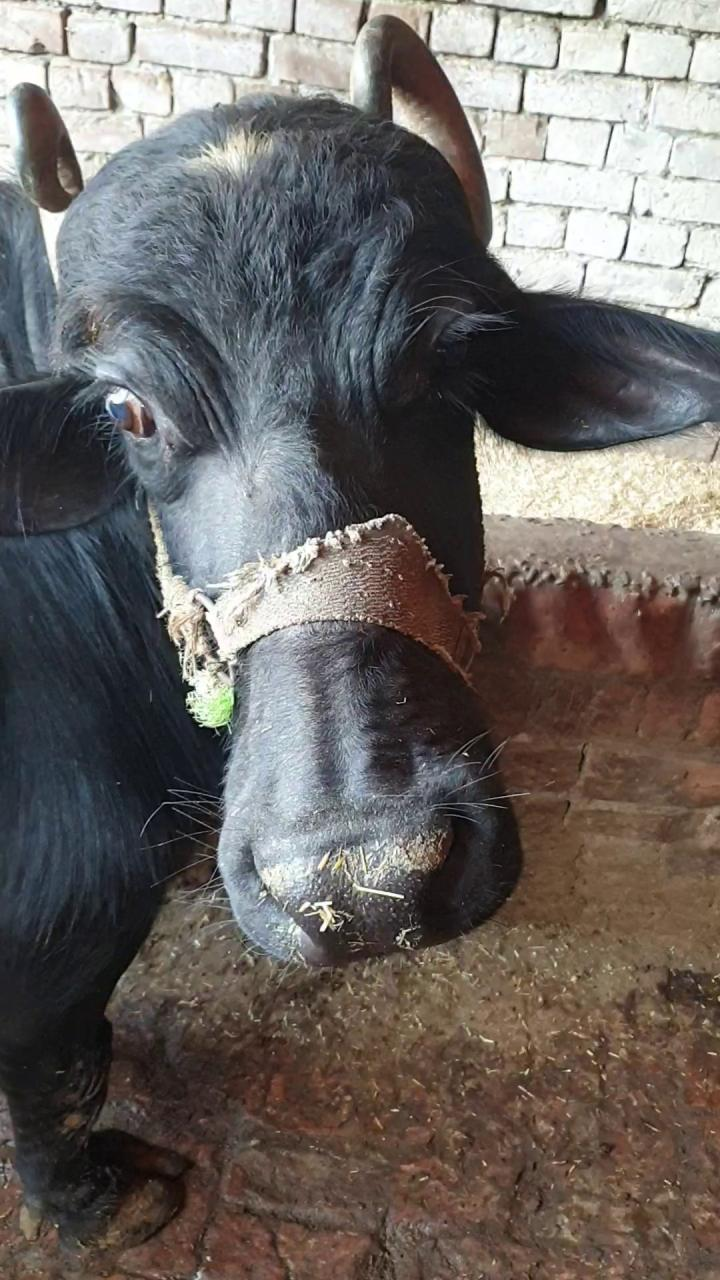cows: (60, 128, 612, 984)
